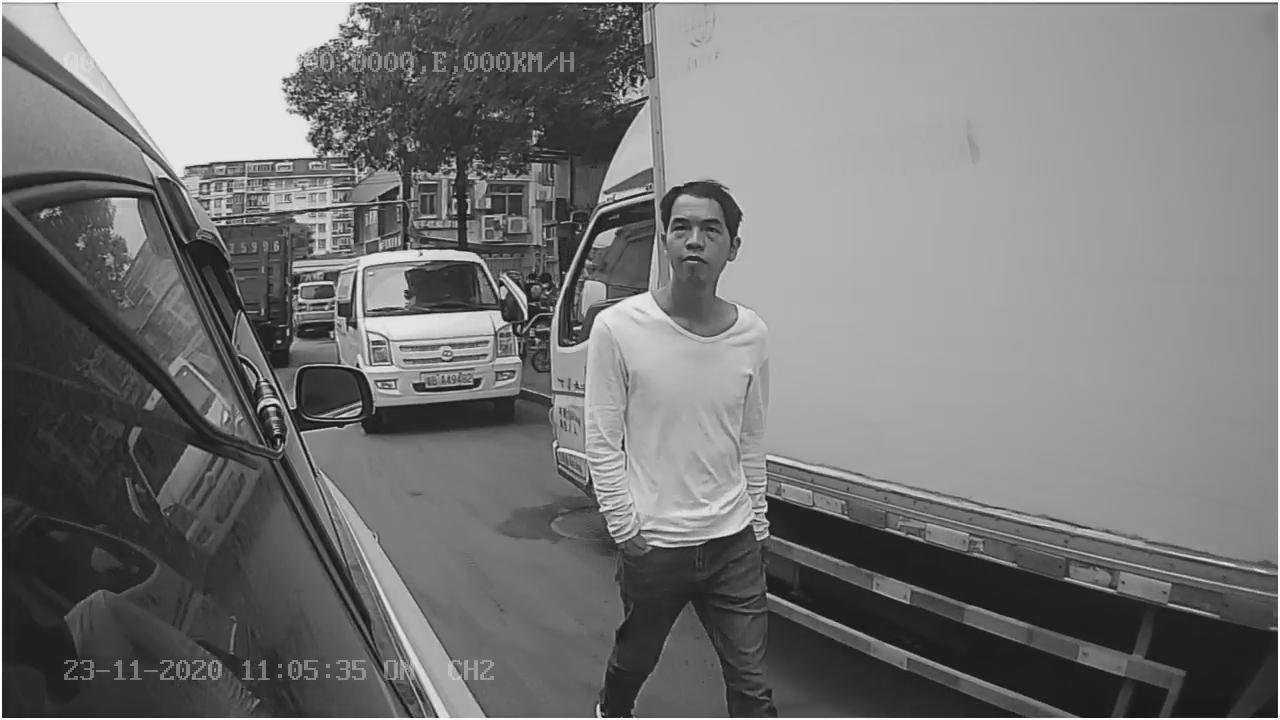person: (577, 166, 786, 652)
